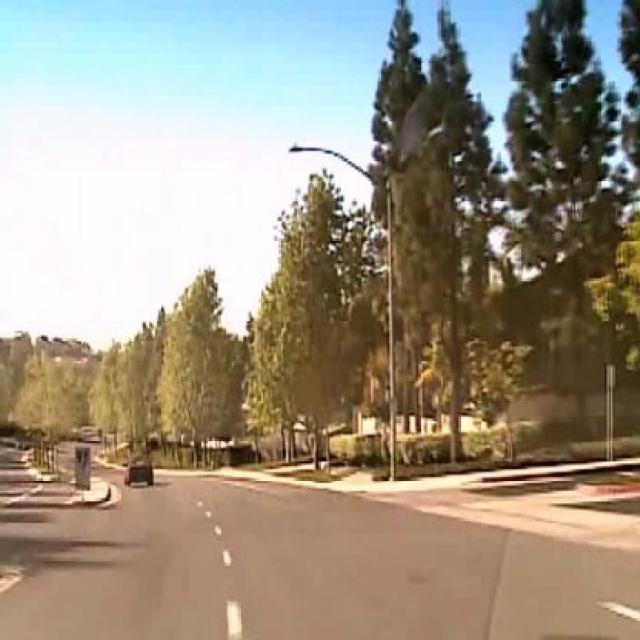keepRight: (74, 448, 90, 475)
